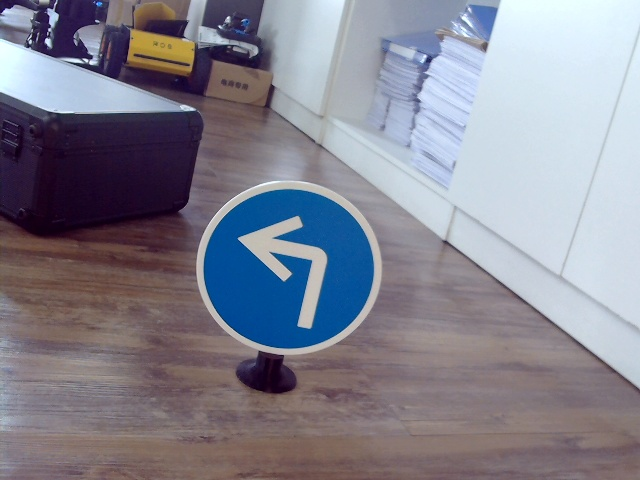turn_left: (237, 210, 336, 334)
